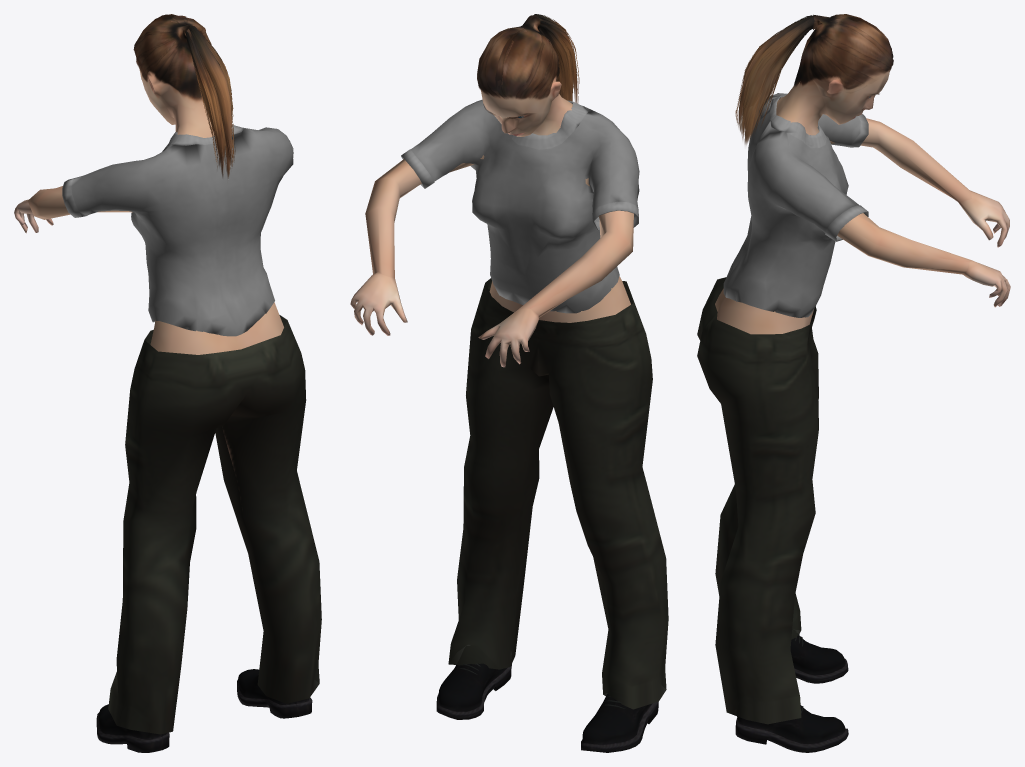
Rendered from woman_tee_working.glb.
3 views of the same model, side by side, from view 1: azimuth 30°, elevation 25°; view 2: azimuth 150°, elevation 25°; view 3: azimuth 270°, elevation 25° (orthographic). The views are drawn at different scales.
Parts seen in each view (by area): view 1: Human_atlas; view 2: Human_atlas; view 3: Human_atlas.
Part boxes in pixels (x1=…): Human_atlas: x1=14, y1=14, x2=321, y2=752; Human_atlas: x1=350, y1=14, x2=668, y2=752; Human_atlas: x1=697, y1=14, x2=1010, y2=752.
Bounding box in the file's own units: 0.5942 × 1.59 × 0.6512.
Materials: 1 (1 with a texture image).
